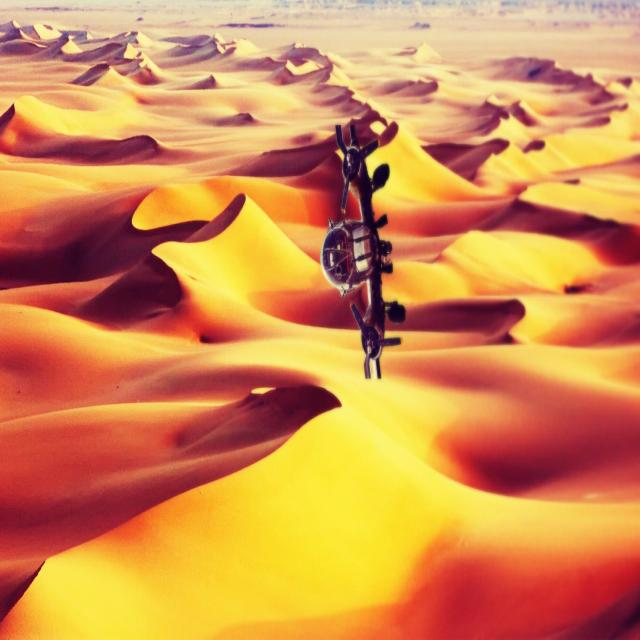airplane: (322, 120, 404, 382)
